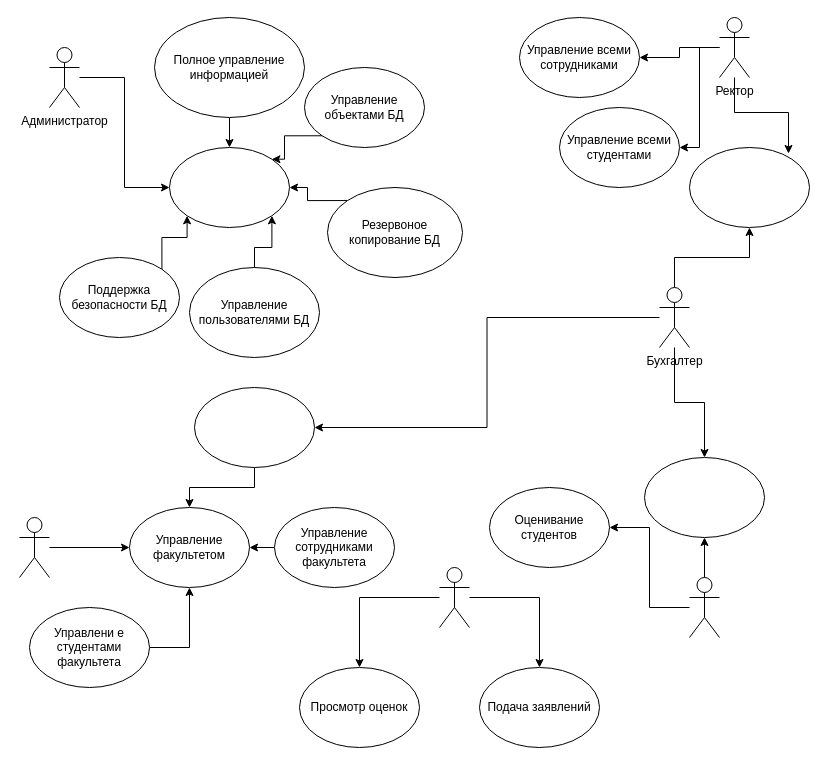
Some shapes in this 827 by 765 pixel diagram are drawn without their labels. Here are the shapes that lost their labels. From the top down, the centre of each, then its label:
point (229, 187): Управление базой данных
point (749, 187): Управление документацией
point (254, 427): Управление документаций факультета
point (704, 497): Управление документами
point (34, 547): Декан
point (454, 597): Студент
point (704, 607): Преподаватель
